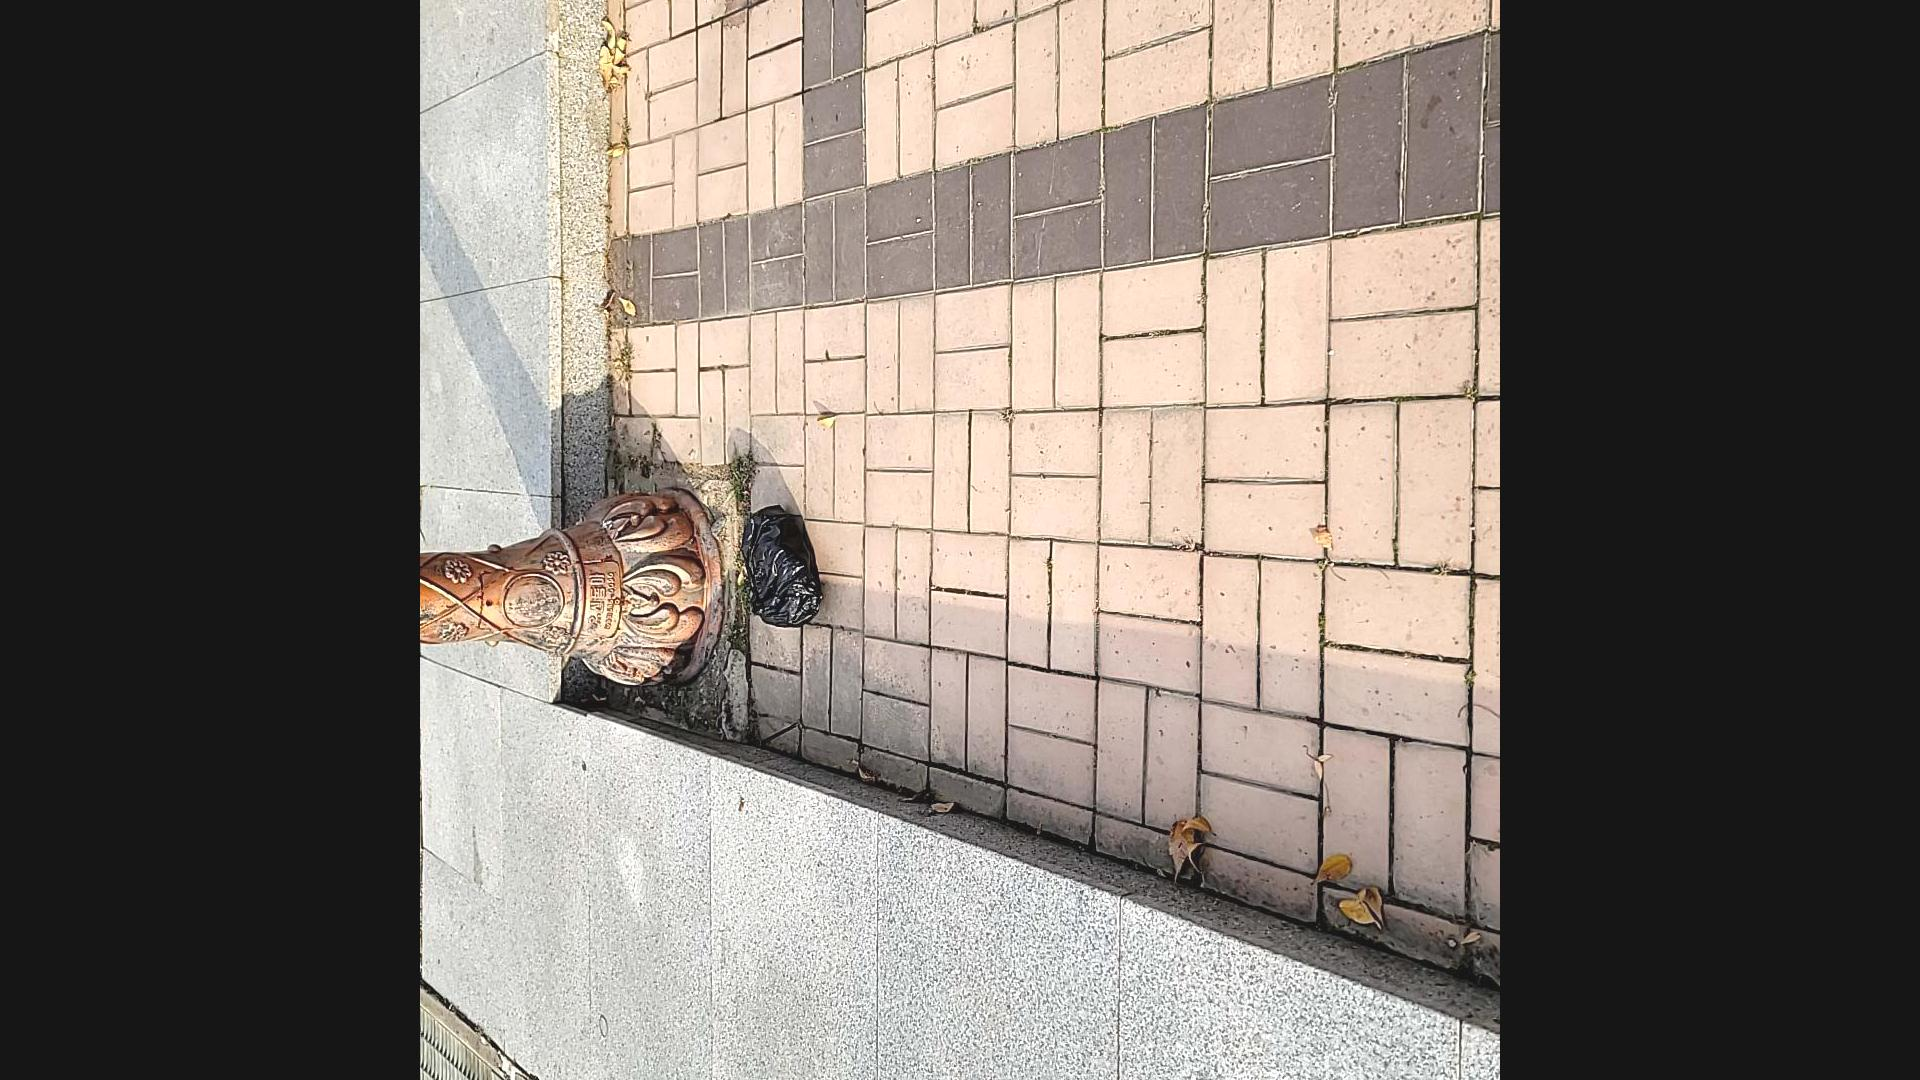black_bag: (732, 498, 824, 633)
